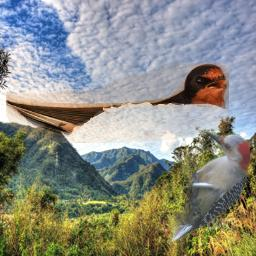Swallow: (6, 62, 229, 143)
Woodpecker: (168, 131, 250, 245)
